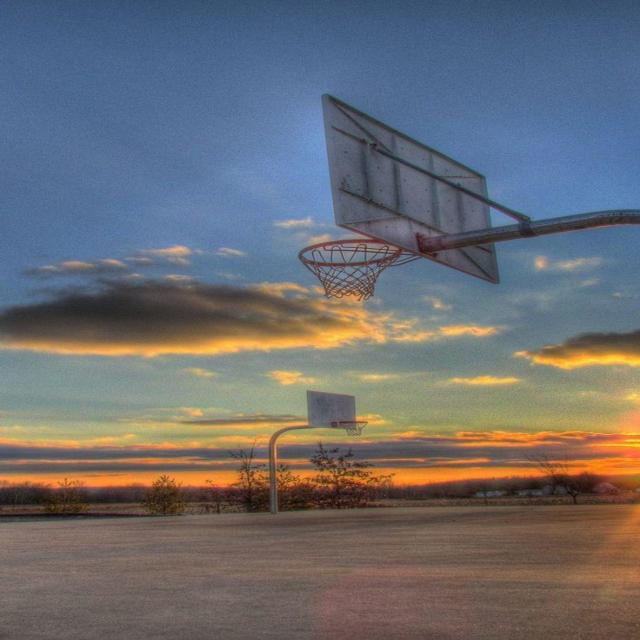hoop: (267, 222, 423, 316)
